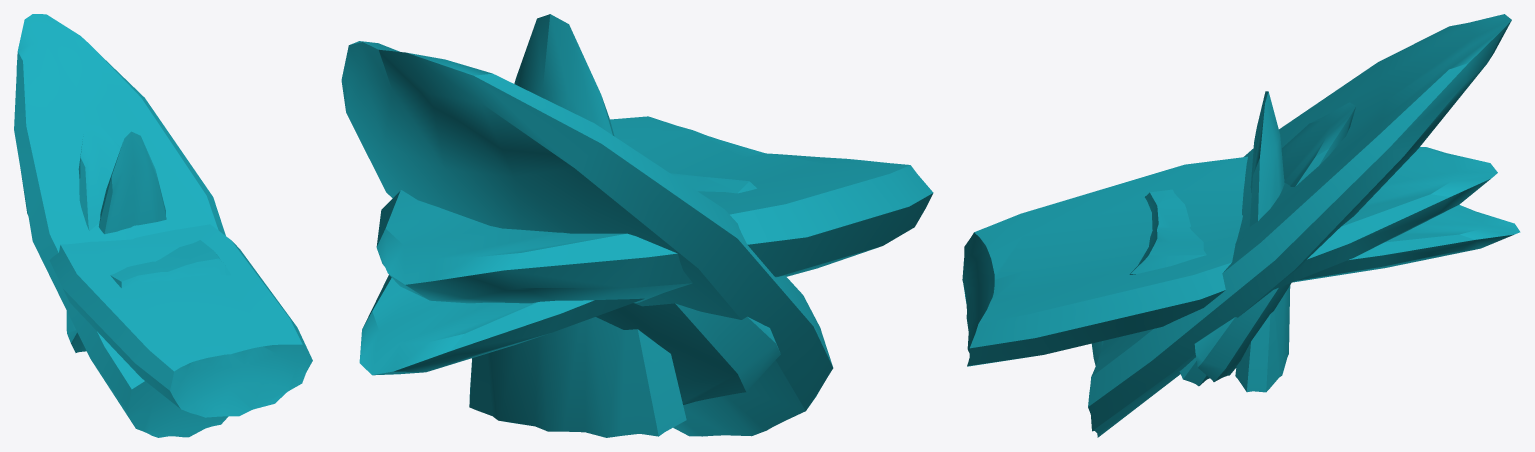
Rendered from agave-pianta_new.glb.
3 views of the same model, side by side, from view 1: azimuth 30°, elevation 25°; view 2: azimuth 150°, elevation 25°; view 3: azimuth 270°, elevation 25° (orthographic). The views are drawn at different scales.
Parts seen in each view (by area): view 1: foglia-agave-02, foglia-agave-03, foglia-agave-06, foglia-agave-05, foglia-agave-01, foglia-agave-04; view 2: foglia-agave-03, foglia-agave-02, foglia-agave-06, foglia-agave-01, foglia-agave-04; view 3: foglia-agave-02, foglia-agave-03, foglia-agave-01, foglia-agave-06, foglia-agave-05, foglia-agave-04.
Boxes of the visible parts, x1=… form: foglia-agave-02: x1=21, y1=177, x2=312, y2=417; foglia-agave-03: x1=14, y1=14, x2=228, y2=437; foglia-agave-06: x1=98, y1=131, x2=166, y2=234; foglia-agave-05: x1=78, y1=124, x2=120, y2=230; foglia-agave-01: x1=110, y1=240, x2=230, y2=288; foglia-agave-04: x1=66, y1=311, x2=86, y2=352; foglia-agave-03: x1=341, y1=41, x2=833, y2=436; foglia-agave-02: x1=376, y1=116, x2=933, y2=303; foglia-agave-06: x1=469, y1=14, x2=686, y2=437; foglia-agave-01: x1=359, y1=173, x2=756, y2=375; foglia-agave-04: x1=596, y1=303, x2=780, y2=404; foglia-agave-02: x1=962, y1=147, x2=1497, y2=366; foglia-agave-03: x1=1088, y1=14, x2=1511, y2=437; foglia-agave-01: x1=1129, y1=189, x2=1520, y2=282; foglia-agave-06: x1=1235, y1=91, x2=1290, y2=392; foglia-agave-05: x1=1179, y1=102, x2=1355, y2=386; foglia-agave-04: x1=1194, y1=283, x2=1291, y2=381.
Bounding box in the file's own units: 0.3649 × 0.5881 × 0.7323.
